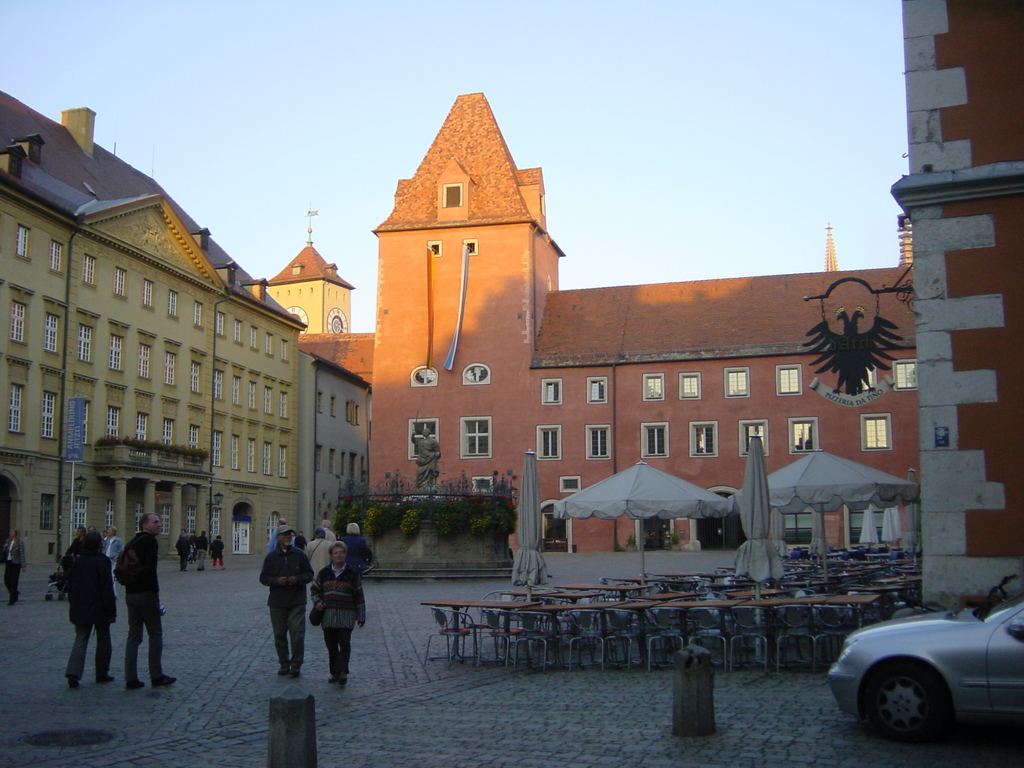Car: (825, 590, 1017, 747)
